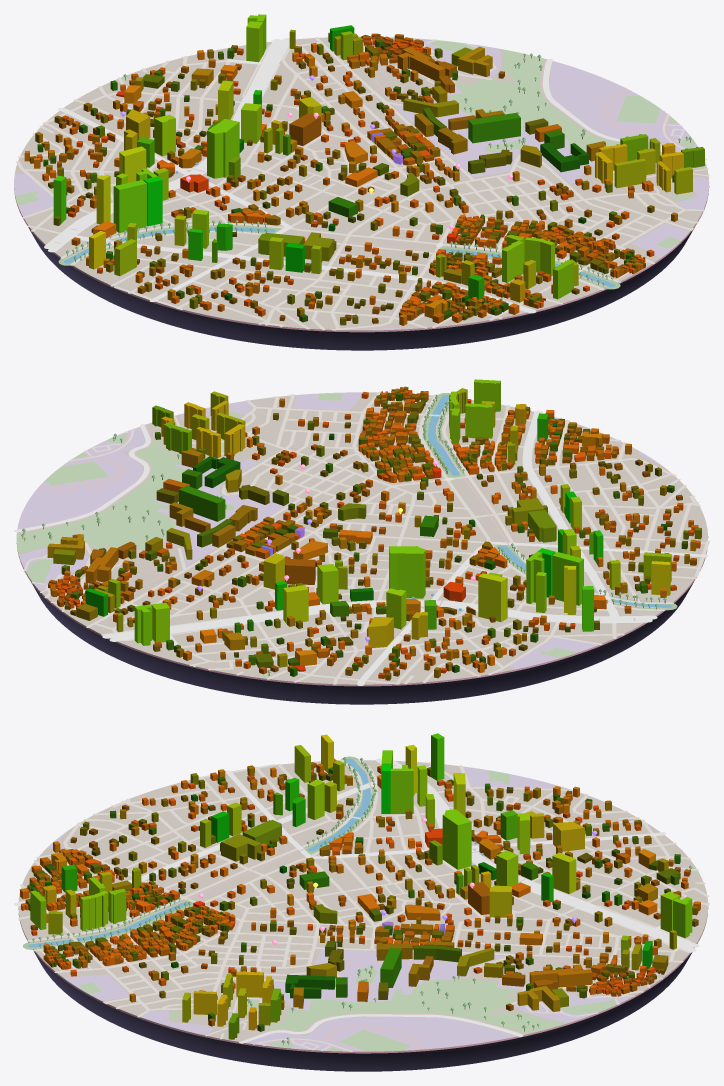
Rendered from sungshin_map.glb.
The picture shows the model from 3 angles, top to bottom: view 1: azimuth 30°, elevation 25°; view 2: azimuth 150°, elevation 25°; view 3: azimuth 270°, elevation 25°; orthographic projection.
Parts seen in each view (by area): view 1: Ground, Buildings_Tall, Buildings_Warm, Road_Minor, Buildings_Fill, Base, Campus, Buildings, Green, Buildings_Campus, Road_Major, Rim (+5 smaller); view 2: Ground, Buildings_Tall, Buildings_Warm, Road_Minor, Buildings_Fill, Base, Campus, Buildings, Green, Road_Major, Buildings_Campus, Road_Path (+5 smaller); view 3: Ground, Buildings_Tall, Buildings_Warm, Road_Minor, Buildings_Fill, Campus, Base, Buildings, Green, Buildings_Campus, Road_Major, Road_Path (+5 smaller).
Boxes of the visible parts, x1,y1,x2,y2 form: Ground: (14,36,709,330); Buildings_Tall: (53,14,704,302); Buildings_Warm: (24,32,654,325); Road_Minor: (16,36,709,330); Buildings_Fill: (41,46,677,323); Base: (28,227,694,350); Campus: (14,38,709,330); Buildings: (91,35,645,322); Green: (15,40,695,248); Buildings_Campus: (397,47,605,174); Road_Major: (44,38,707,313); Rim: (14,186,709,332); Ground: (17,392,707,684); Buildings_Tall: (85,379,671,647); Buildings_Warm: (47,386,698,678); Road_Minor: (24,391,709,684); Buildings_Fill: (99,398,701,680); Base: (31,582,693,704); Campus: (17,392,662,669); Buildings: (48,388,617,672); Green: (16,393,577,678); Road_Major: (14,410,708,685); Buildings_Campus: (85,449,288,583); Road_Path: (17,401,665,645); Ground: (18,760,708,1051); Buildings_Tall: (30,733,692,1039); Buildings_Warm: (20,762,698,1011); Road_Minor: (18,759,709,1051); Buildings_Fill: (30,758,700,1031); Campus: (47,766,628,1051); Base: (34,951,692,1071); Buildings: (21,830,680,1007); Green: (78,770,699,1051); Buildings_Campus: (285,941,592,1008); Road_Major: (14,758,699,1043); Road_Path: (30,760,586,1051).
Size of the model in its own units: 1136 by 127 by 1130.
